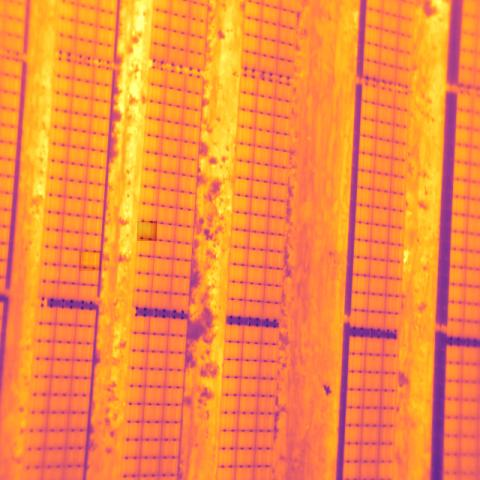fault: (79, 251, 101, 271), (137, 221, 157, 241)
